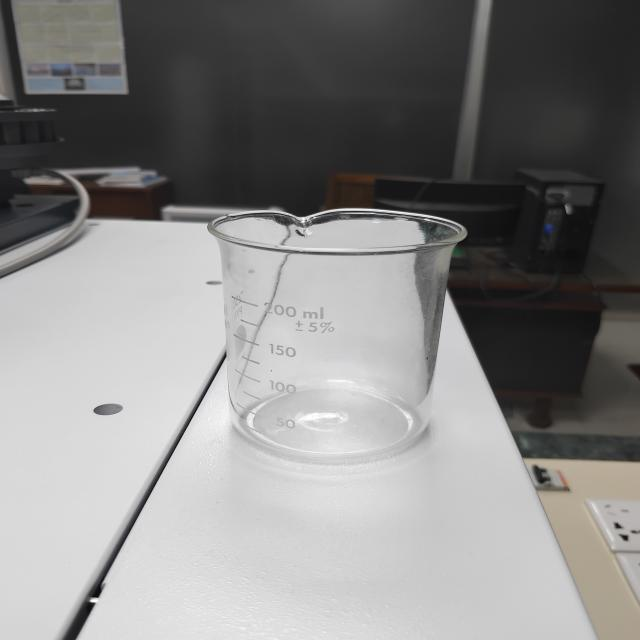Beaker: (165, 164, 485, 500)
